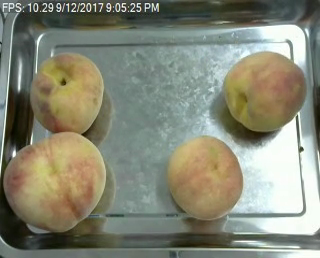Peach: (3, 132, 107, 234), (220, 49, 304, 132), (165, 135, 243, 220), (30, 52, 106, 135)
